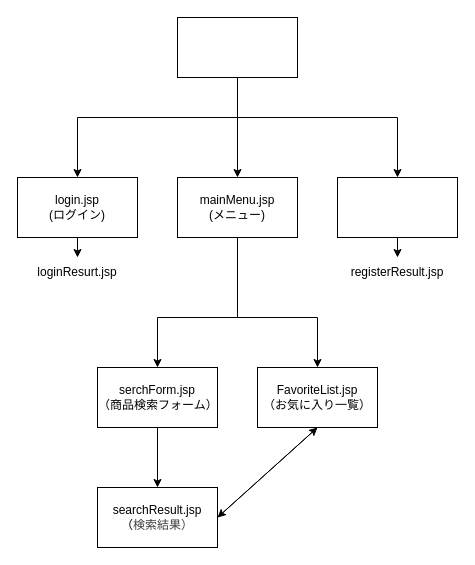
Some shapes in this 475 by 565 pixel diagram are drawn without their labels. Here are the shapes that lost their labels. From the top down, the box of each, then its label:
(176, 16, 298, 78): index.jsp (トップ画面)
(336, 176, 458, 238): register.jsp (新規登録)
